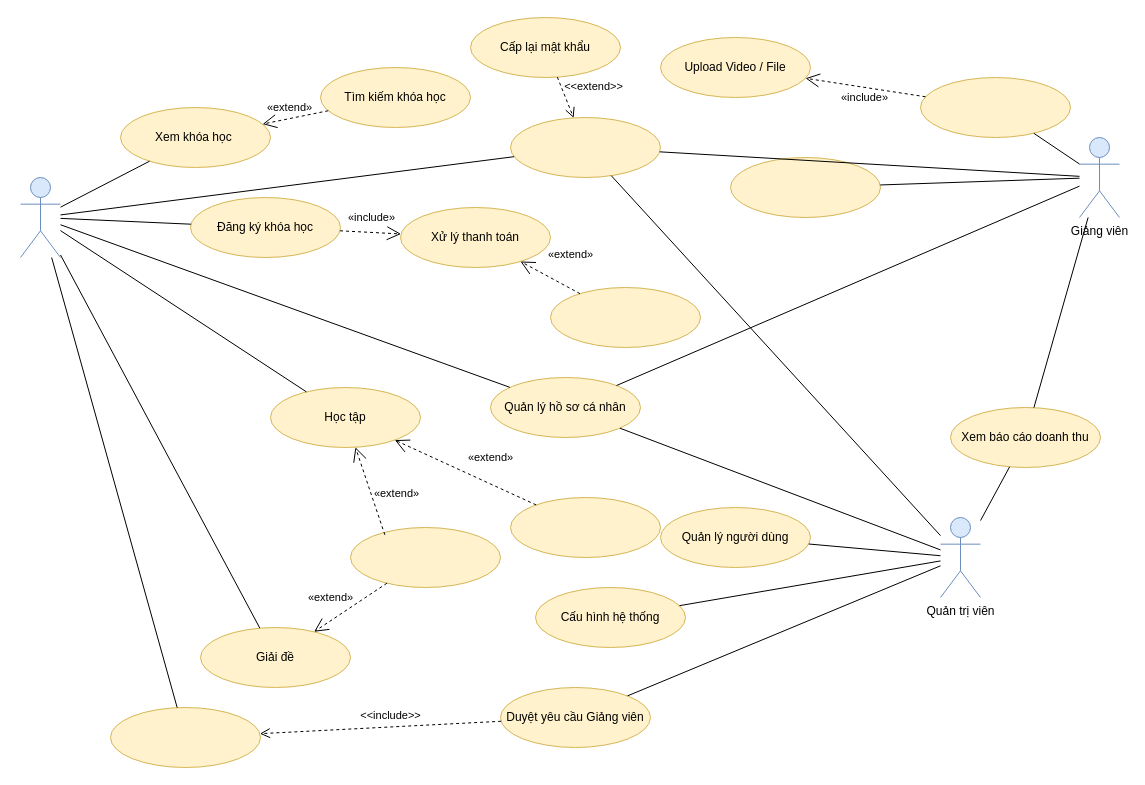
This 1145x785 diagram has some shape labels left out. The centre of each missing label's shape, as x and y in pixels:
Cấp chứng chỉ: the point at 585,527
Học viên: the point at 40,217
Tạo & Quản lý nội dung khóa học: the point at 995,107
Tạo & Quản lý đề thi: the point at 805,187
Áp dụng mã giảm giá: the point at 625,317
Đánh giá & Thảo luận: the point at 425,557
Đăng ký làm Giảng viên: the point at 185,737
Đăng nhập / Đăng ký: the point at 585,147
